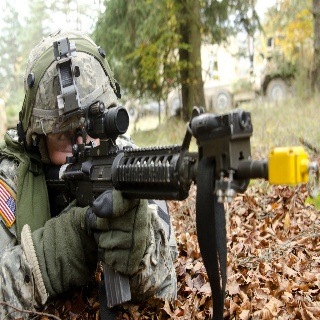rifle: (40, 100, 311, 210)
